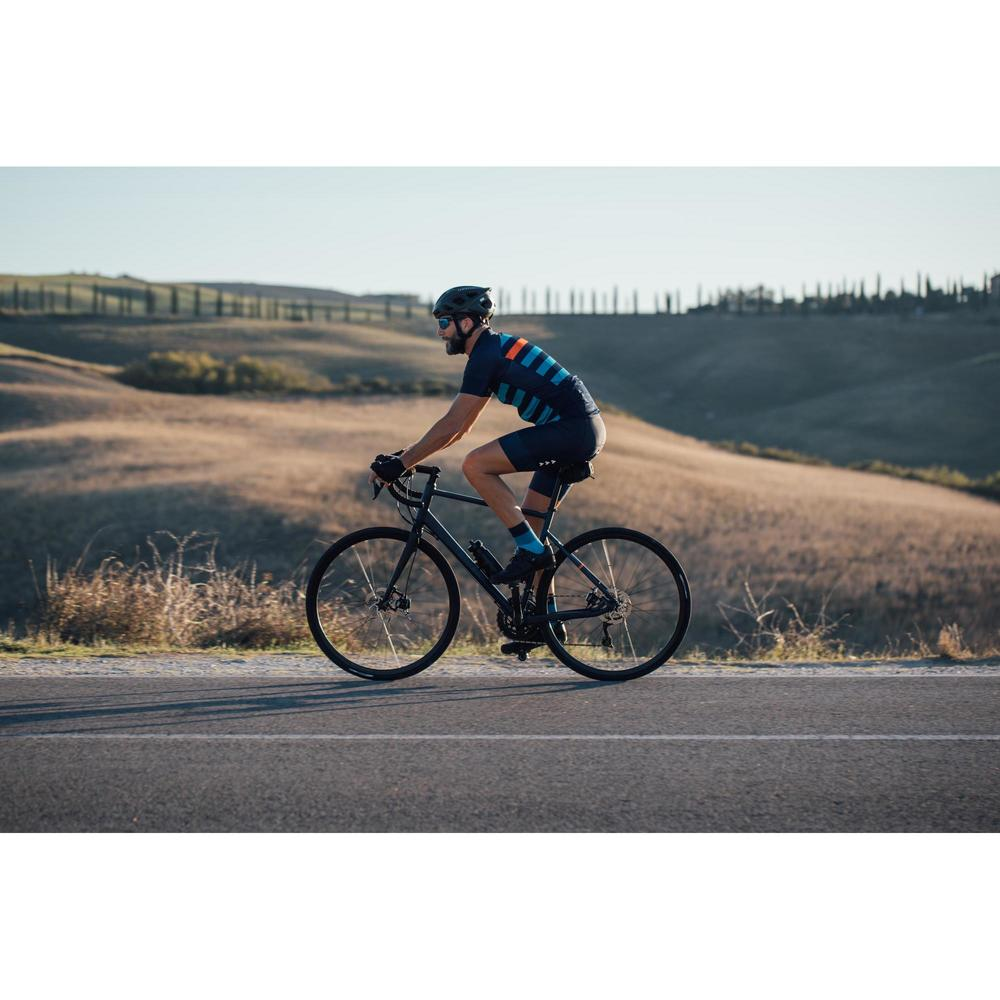RoadBike: (296, 453, 703, 688)
